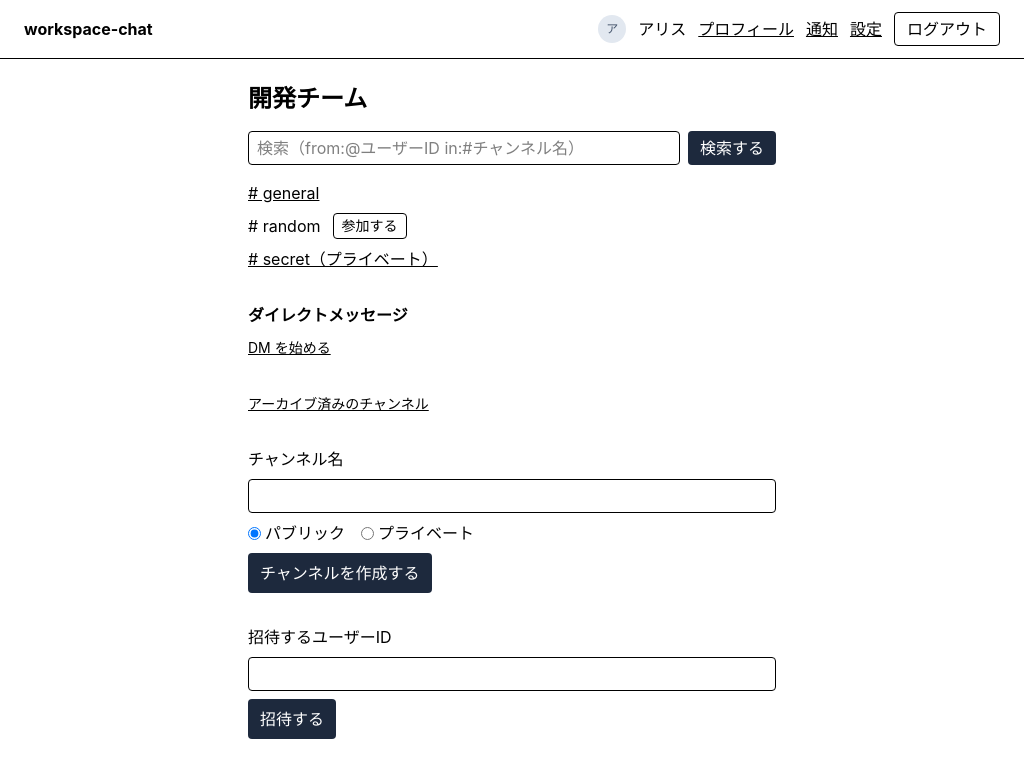
Test: ワークスペースの画面 › 参加に失敗したら理由を出す
The width and height of the screenshot is (1024, 768).
Click the button with aria-label "random に参加する". click: (370, 226)
box: [332, 213, 406, 239]
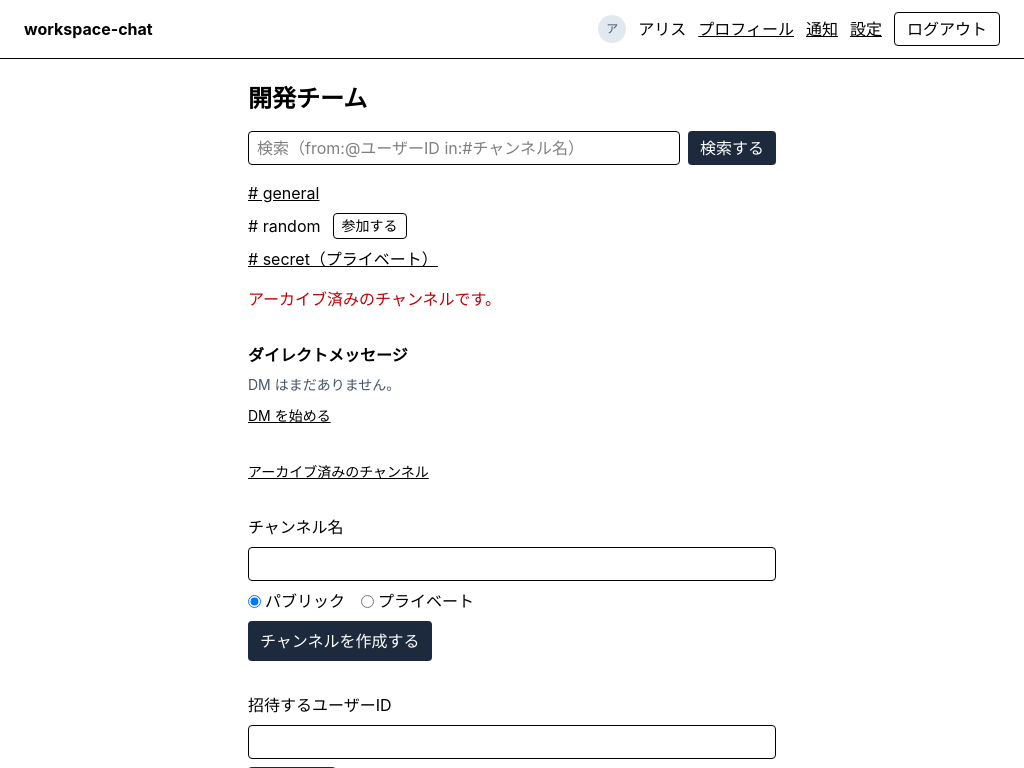
Result: the message shows "アーカイブ済みのチャンネルです" at [248, 289, 501, 309]
